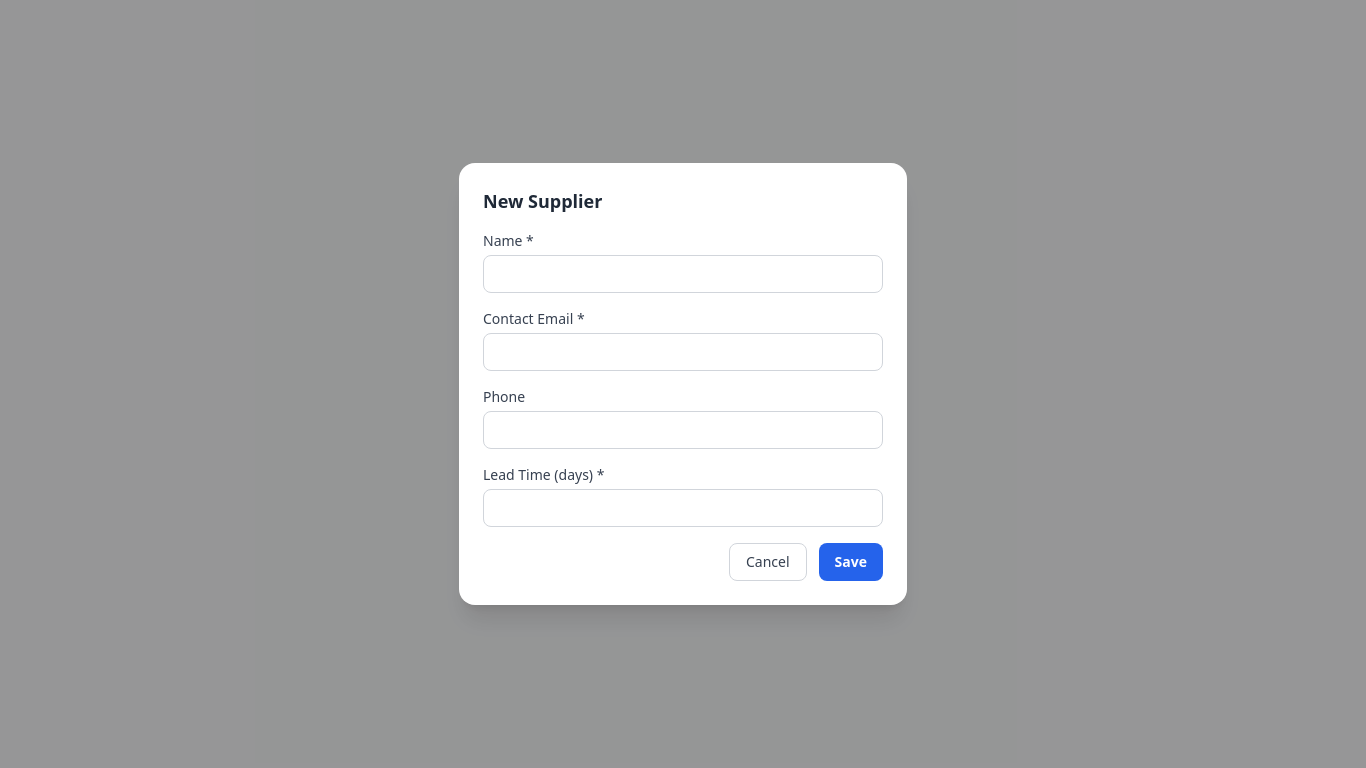
Scenario: SupplierForm Validation › shows errors for all empty required fields
Step 1. Click the button "Save" → (851, 562), box [819,543,883,581]
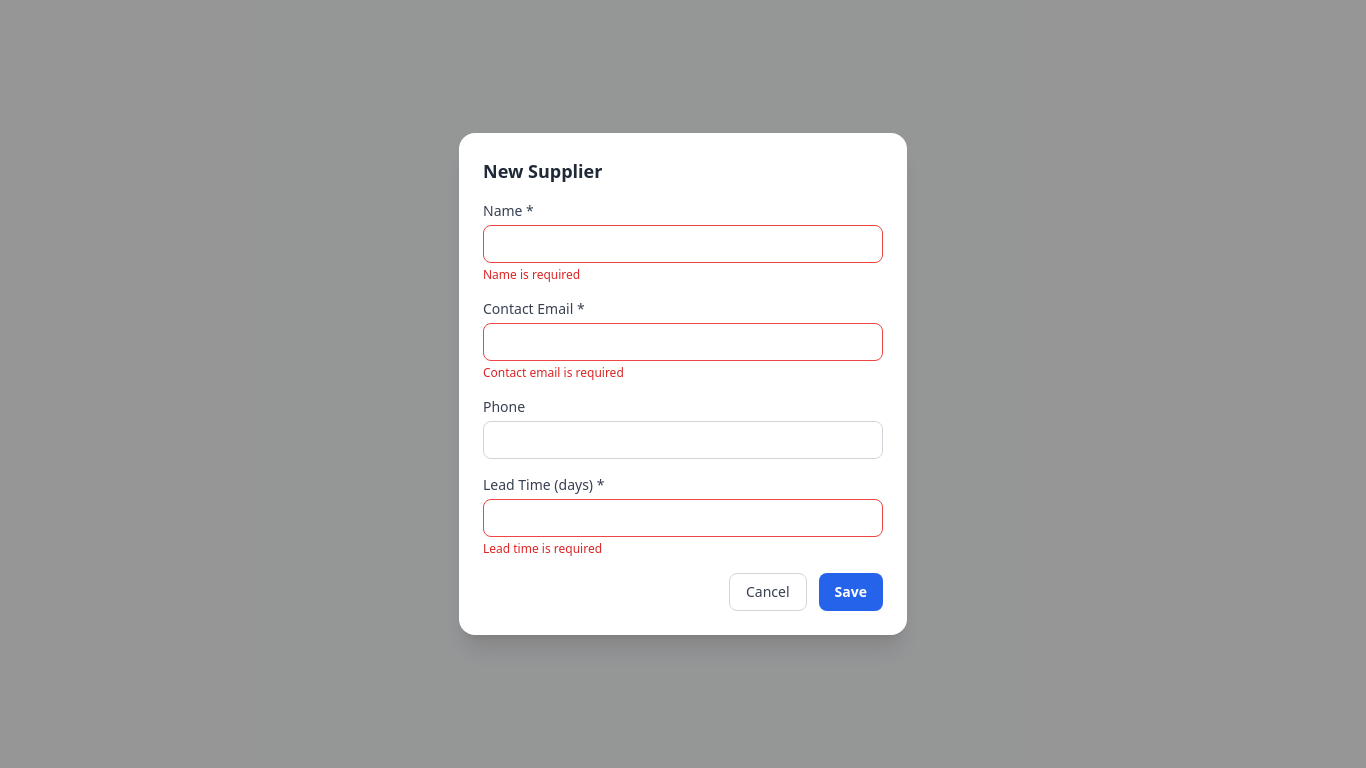
Expected: the text "Name is required" is shown, [483,266,580,283]
Expected: the text "Contact email is required" is shown, [483,364,624,381]
Expected: the text "Lead time is required" is shown, [483,540,602,557]
